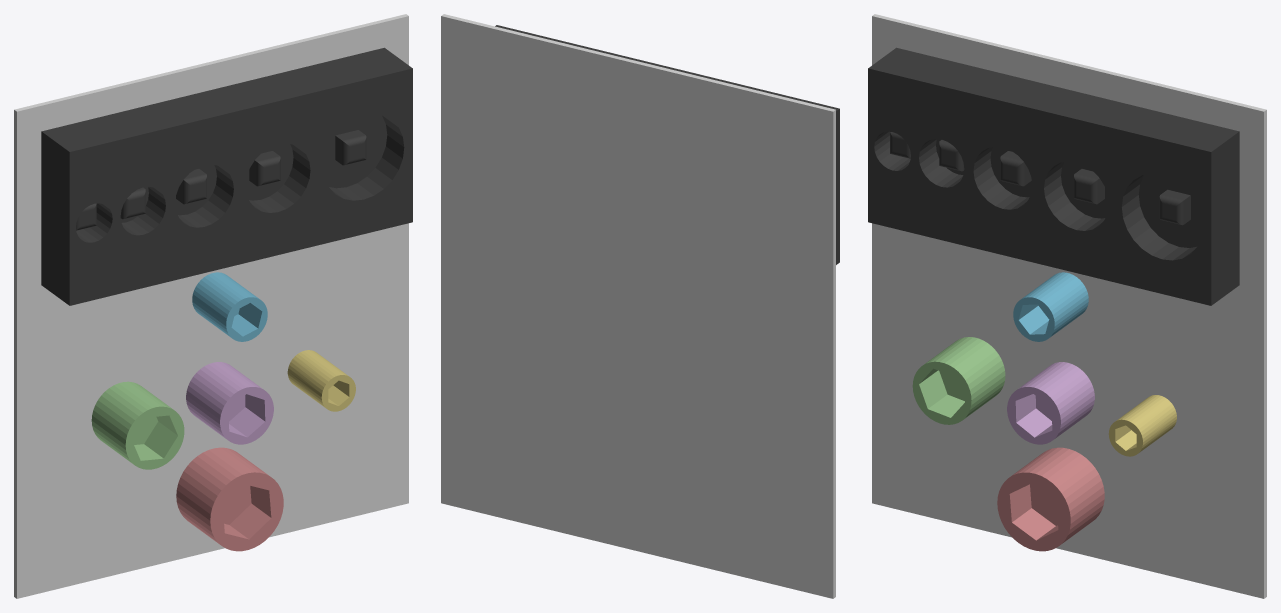
File: pickup_layout.glb
3 views of the same model, side by side, from view 1: azimuth 30°, elevation 25°; view 2: azimuth 150°, elevation 25°; view 3: azimuth 330°, elevation 25° (orthographic).
Visible parts, largest first — view 1: world, 0.obj, 5.obj, 4.obj, 3.obj, 2.obj, 1.obj; view 2: world, 0.obj; view 3: world, 0.obj, 5.obj, 4.obj, 3.obj, 2.obj, 1.obj.
Part boxes in pixels (box(x1,y1,x2,y2)): world: box(14, 14, 408, 598); 0.obj: box(41, 47, 412, 305); 5.obj: box(176, 447, 283, 551); 4.obj: box(91, 381, 184, 469); 3.obj: box(186, 362, 273, 444); 2.obj: box(192, 272, 267, 341); 1.obj: box(287, 350, 355, 411); world: box(441, 14, 835, 598); 0.obj: box(495, 25, 839, 264); world: box(872, 14, 1266, 598); 0.obj: box(868, 47, 1239, 305); 5.obj: box(997, 447, 1104, 551); 4.obj: box(912, 337, 1005, 424); 3.obj: box(1007, 362, 1094, 444); 2.obj: box(1013, 272, 1088, 341); 1.obj: box(1108, 395, 1176, 456).
Bounding box in the file's own units: 16 × 19 × 2.6.
1 material, 1 textured.
